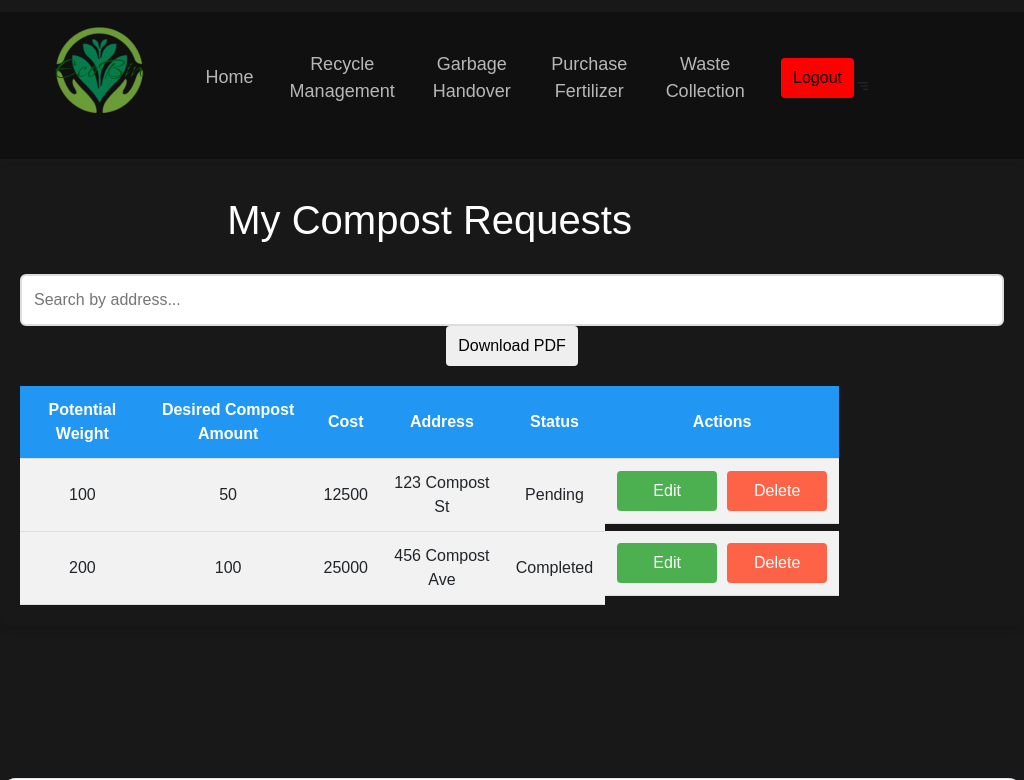
Test: MyCompostRequests Component › edits and updates a compost request
Note: Click the edit button for the first request
Click the button "Edit" in the row of "12500": (667, 491) [617,471,717,511]
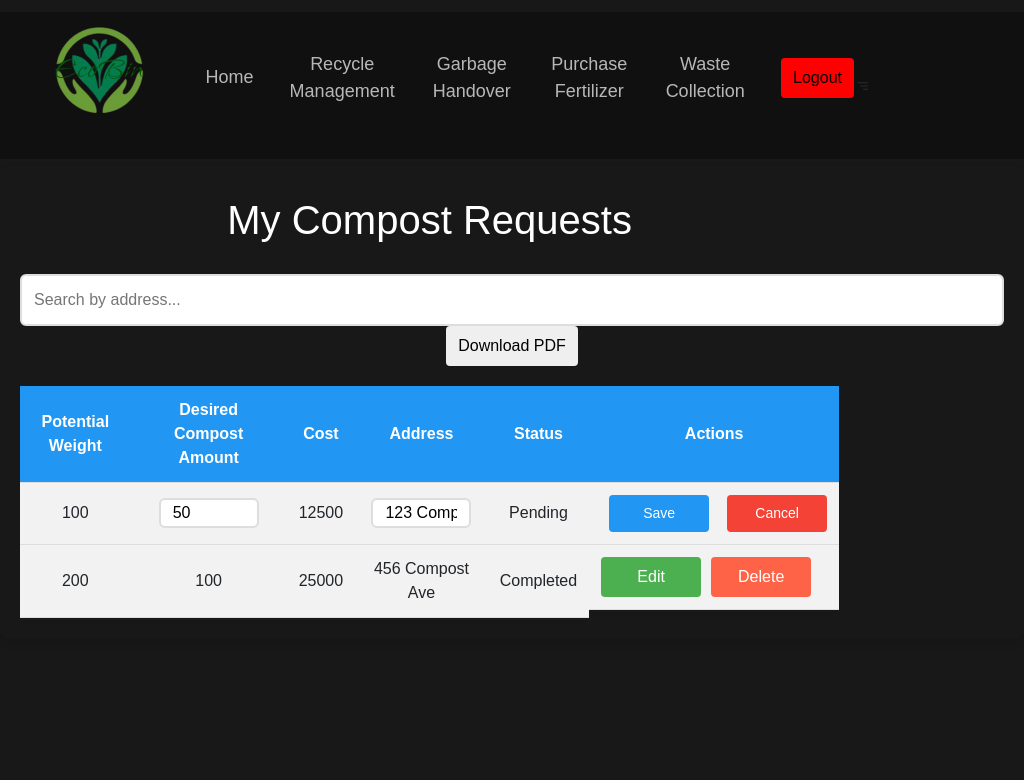
Note: Change the amount and address
Replace the text in the number field with "60": (209, 513) [159,498,259,528]
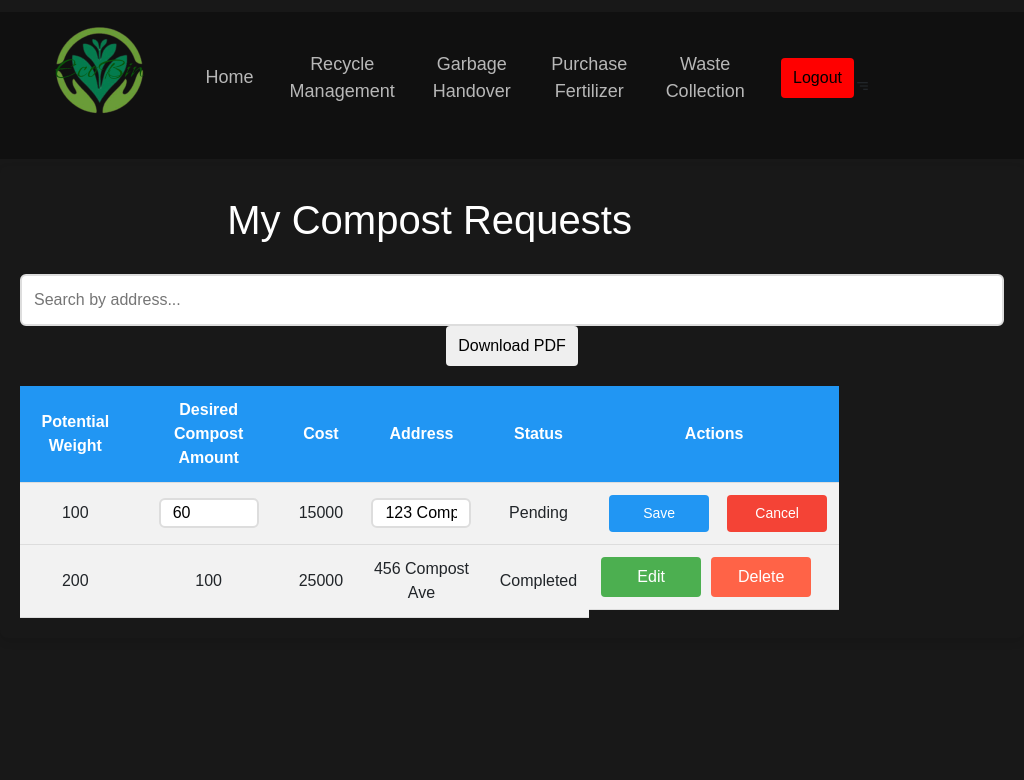
Replace the text in the field showing "123 Compost St" with "789 Compost Blvd": (422, 513) [372,498,472,528]
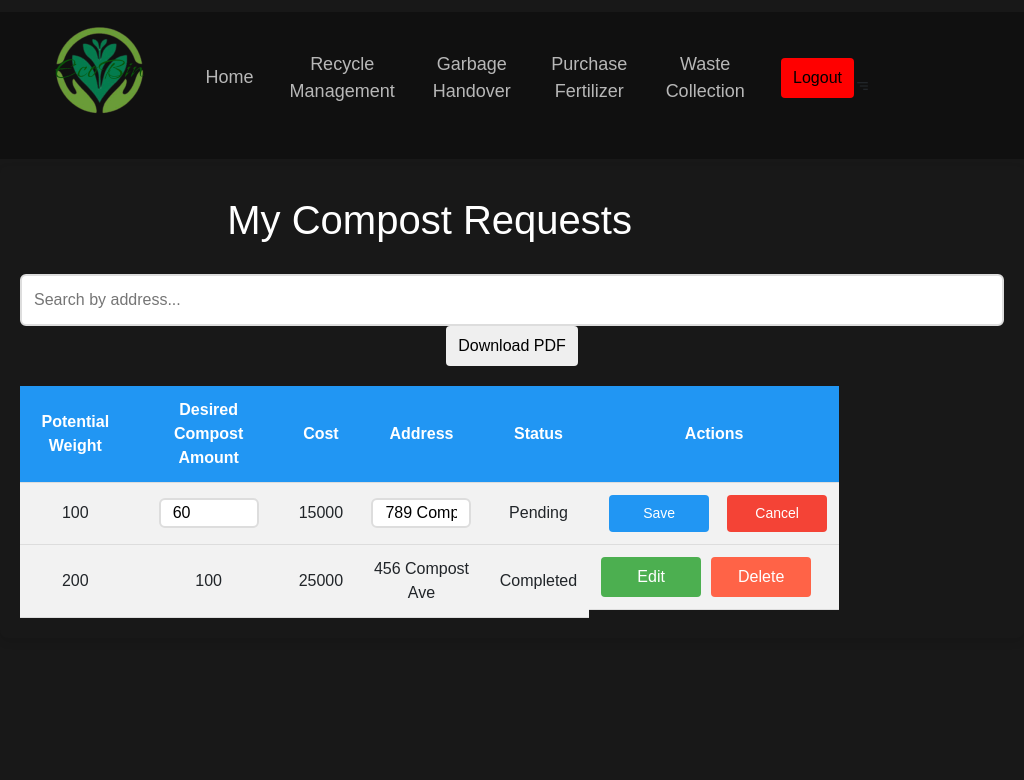
Note: Click the save button
Click the button "Save": (659, 513) [609,495,709,532]
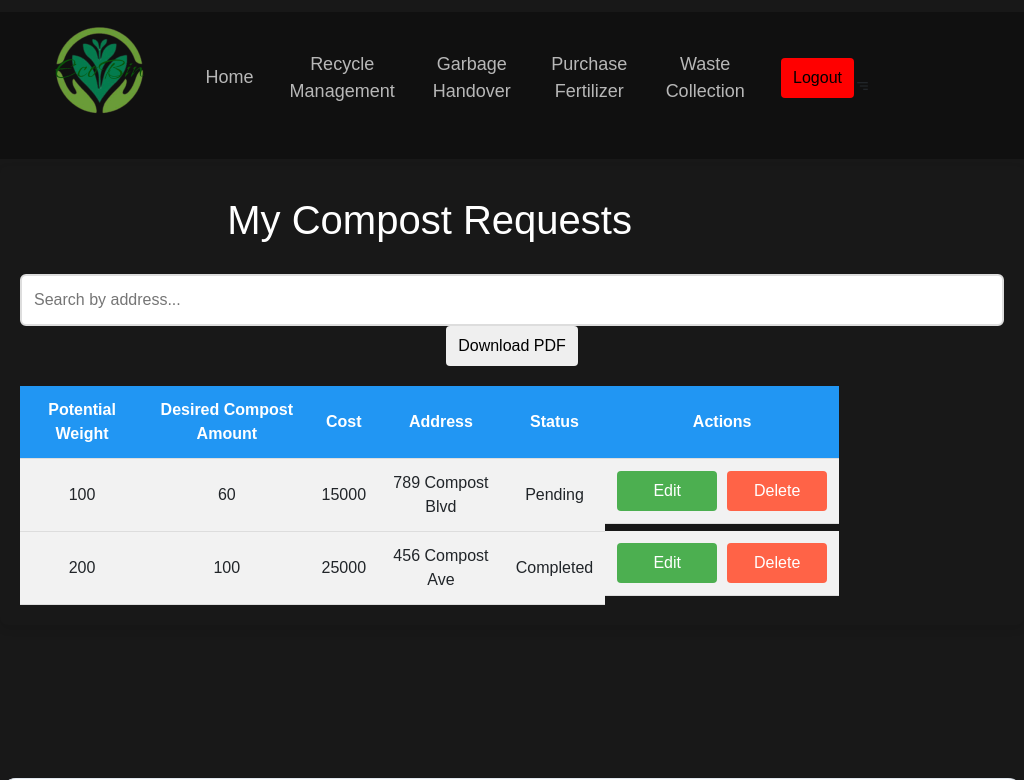
Now the text "60" is shown, box [144,458,310,531]
Now the text "789 Compost Blvd" is shown, box [378,458,504,531]
